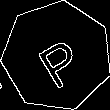P_NW: (27, 25, 86, 88)
